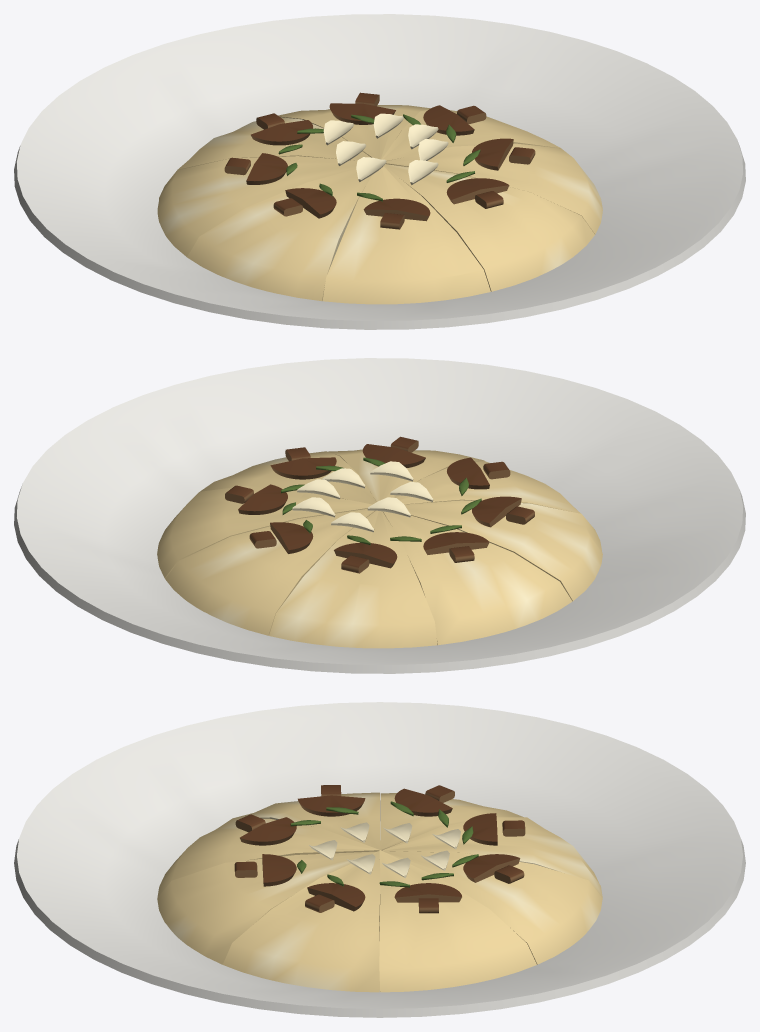
Rendered from dish-risotto-lod0.glb.
3 views of the same model, one above another, from view 1: azimuth 30°, elevation 25°; view 2: azimuth 150°, elevation 25°; view 3: azimuth 270°, elevation 25° (orthographic).
Visible parts, largest first — view 1: risotto.lod0__table porcelain, risotto.lod0__food glaze, risotto.lod0__food; view 2: risotto.lod0__table porcelain, risotto.lod0__food glaze, risotto.lod0__food; view 3: risotto.lod0__table porcelain, risotto.lod0__food glaze, risotto.lod0__food.
Boxes of the visible parts, left/top/right/bottom form: risotto.lod0__table porcelain: left=14, top=14, right=745, bottom=329; risotto.lod0__food glaze: left=157, top=105, right=602, bottom=304; risotto.lod0__food: left=224, top=92, right=535, bottom=229; risotto.lod0__table porcelain: left=14, top=358, right=745, bottom=673; risotto.lod0__food glaze: left=157, top=449, right=602, bottom=648; risotto.lod0__food: left=225, top=436, right=534, bottom=573; risotto.lod0__table porcelain: left=14, top=702, right=745, bottom=1017; risotto.lod0__food glaze: left=157, top=792, right=602, bottom=992; risotto.lod0__food: left=234, top=785, right=525, bottom=913.
Bounding box in the file's own units: 0.26 × 0.0447 × 0.26.
